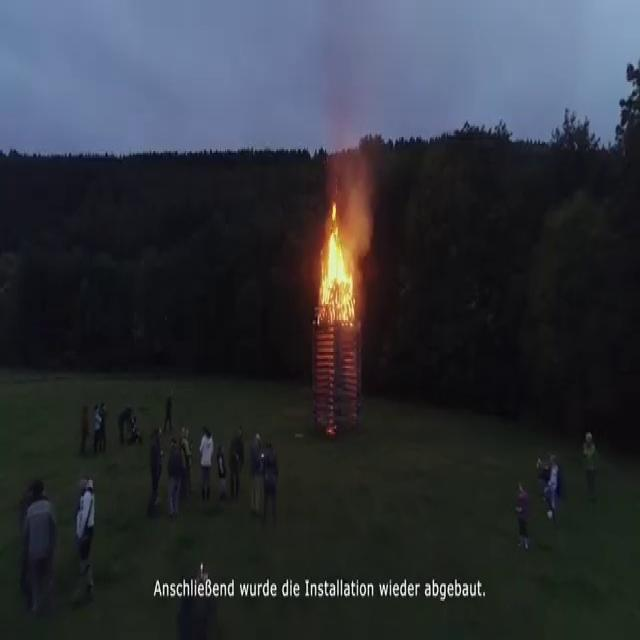Fire: (313, 202, 361, 436)
